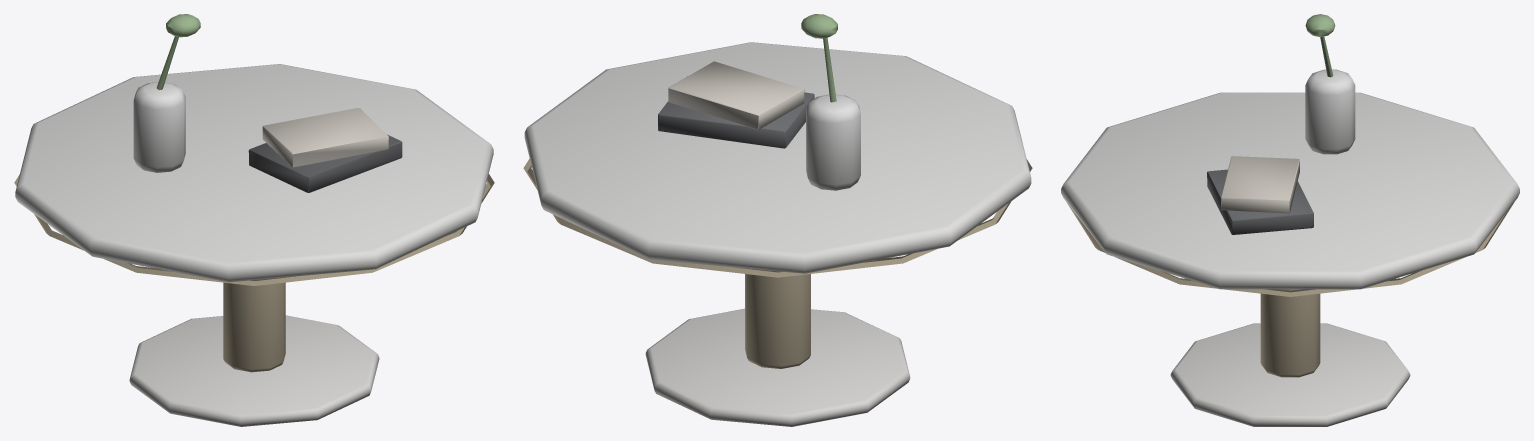
The model's file is white_coffee_table.glb.
The picture shows the model from 3 angles, left to right: view 1: azimuth 30°, elevation 25°; view 2: azimuth 150°, elevation 25°; view 3: azimuth 270°, elevation 25°; orthographic projection. The views are drawn at different scales.
Parts seen in each view (by area): view 1: white_coffee_table; view 2: white_coffee_table; view 3: white_coffee_table.
Part boxes in pixels (x1,y1,x2,y2): white_coffee_table: [14, 14, 494, 426]; white_coffee_table: [523, 14, 1032, 426]; white_coffee_table: [1061, 14, 1519, 426].
Size of the model in its own units: 0.904 by 0.75 by 0.92.
